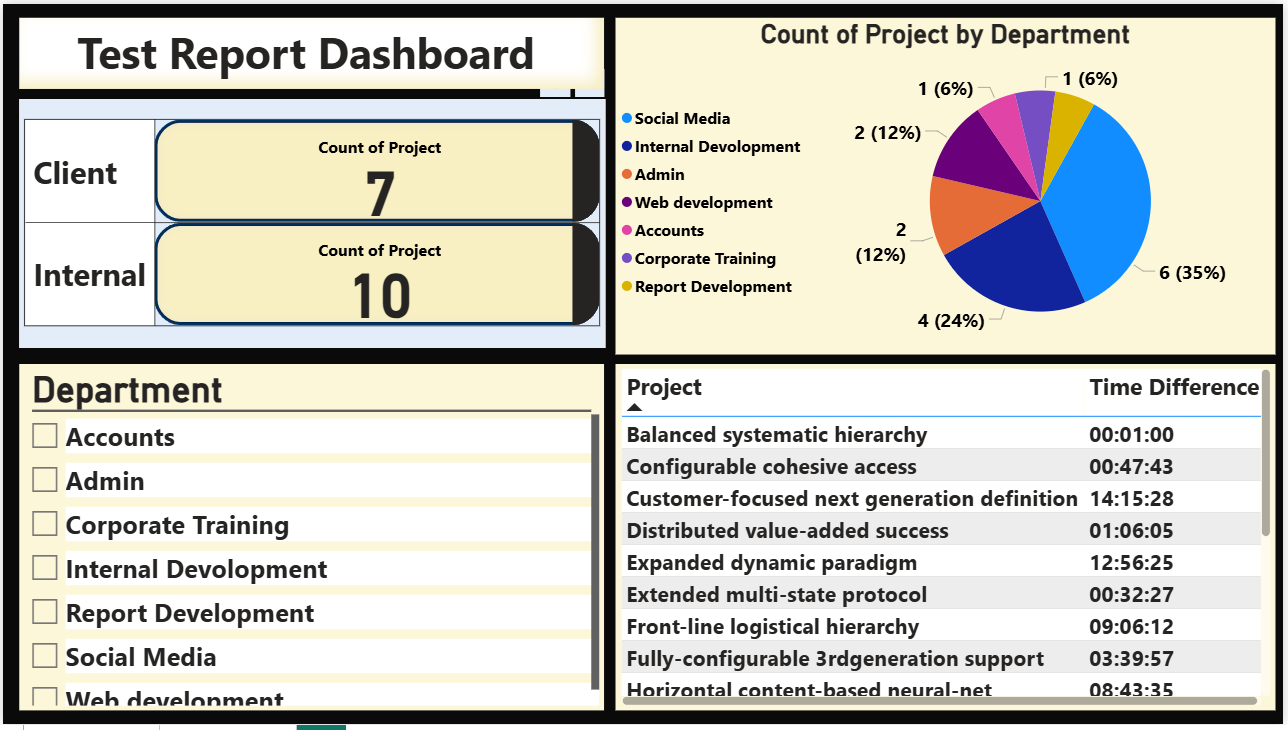

What the dashboard file says about the page in this screenshot:
{"tool":"powerbi","page":{"name":"Dashboard  2","canvas":[1280,720],"ordinal":1},"visuals":[{"type":"slicer","fields":{"Values":["Sheet1.Department"]},"box":[15.7,359.5,585.1,346.2],"z":0},{"type":"cardVisual","fields":{"Rows":["Sheet1.Type of Project"],"Data":["CountNonNull(Sheet1.Project)"]},"box":[15.7,95.3,586.3,248.5],"z":1},{"type":"pieChart","fields":{"Category":["Sheet1.Department"],"Y":["CountNonNull(Sheet1.Project)"]},"box":[612.9,13.3,659.9,336.6],"z":2},{"type":"tableEx","fields":{"Values":["Sheet1.Project","Sheet1.Time Difference"]},"box":[612.9,359.5,659.9,346.2],"z":3},{"type":"textbox","box":[15.7,13.3,585.1,71.2],"z":4}]}

Visuals, with their boxes in screenshot pixels (x1, y1, x2, y2), scaled from the page's 1280x720 canvas onto the 1288x730 screenshot:
slicer - Sheet1.Department: 16 364 605 716
cardVisual - Sheet1.Type of Project x CountNonNull(Sheet1.Project): 16 97 606 349
pieChart - Sheet1.Department x CountNonNull(Sheet1.Project): 617 13 1281 355
tableEx - Sheet1.Project x Sheet1.Time Difference: 617 364 1281 716
textbox: 16 13 605 86
